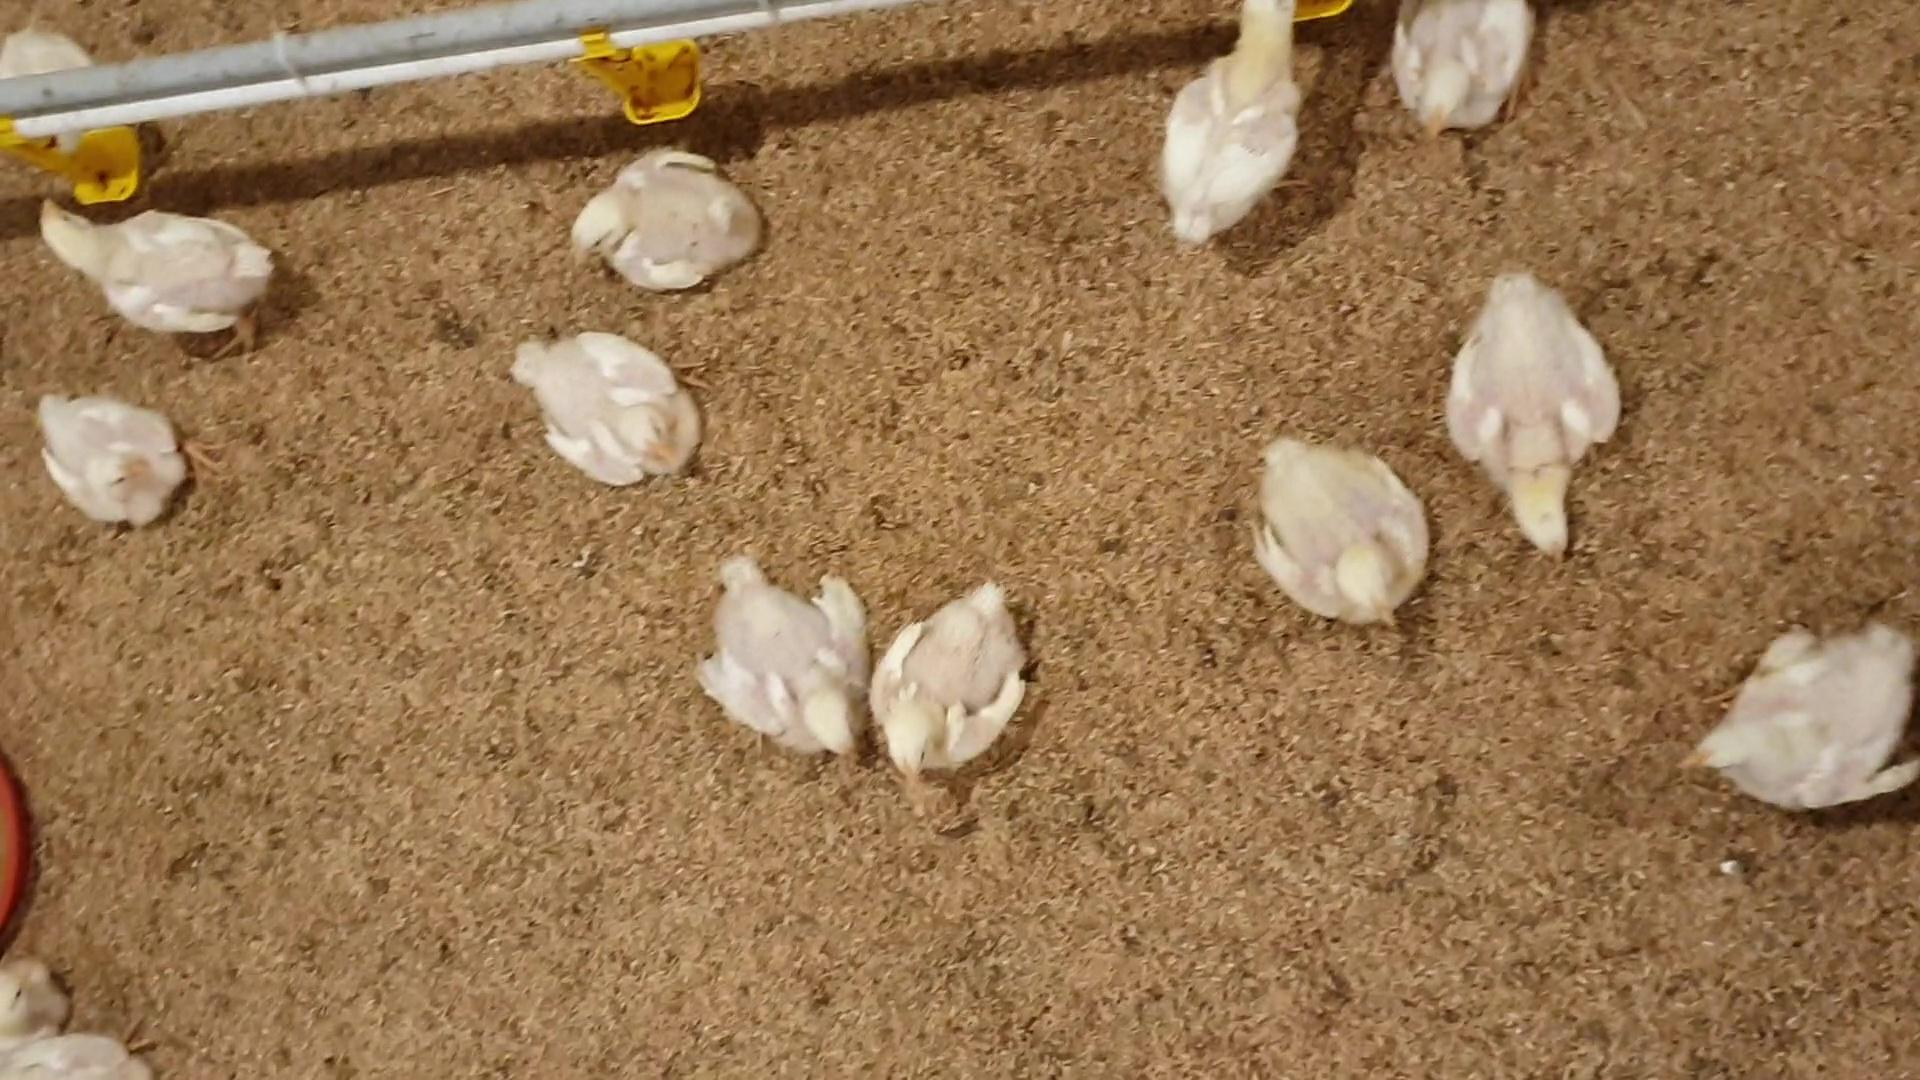Pollos: (1439, 262, 1622, 567), (1673, 618, 1920, 822), (1155, 0, 1321, 252), (30, 195, 291, 351), (694, 551, 866, 767), (1251, 431, 1435, 630), (880, 572, 1039, 793), (509, 330, 715, 487), (568, 153, 756, 277), (1379, 0, 1527, 152), (36, 392, 196, 525)
